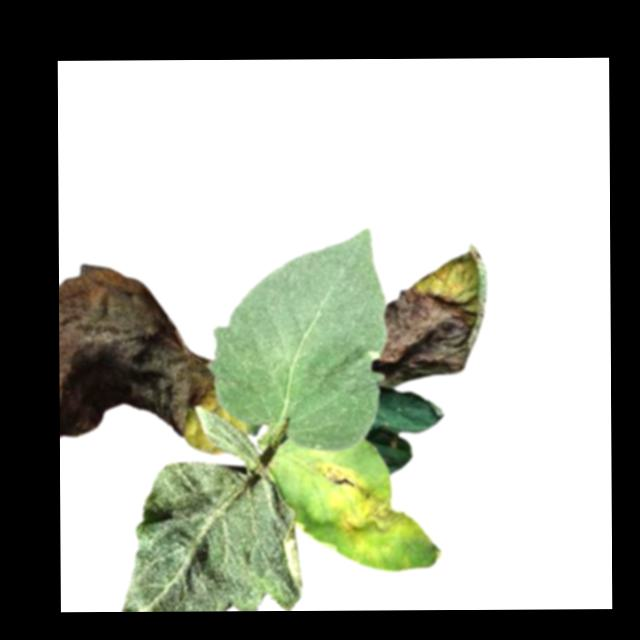Late_blight: (59, 261, 216, 440), (373, 242, 489, 389), (316, 463, 407, 544)
healthy: (206, 226, 388, 451), (119, 460, 303, 611), (193, 406, 259, 468)
